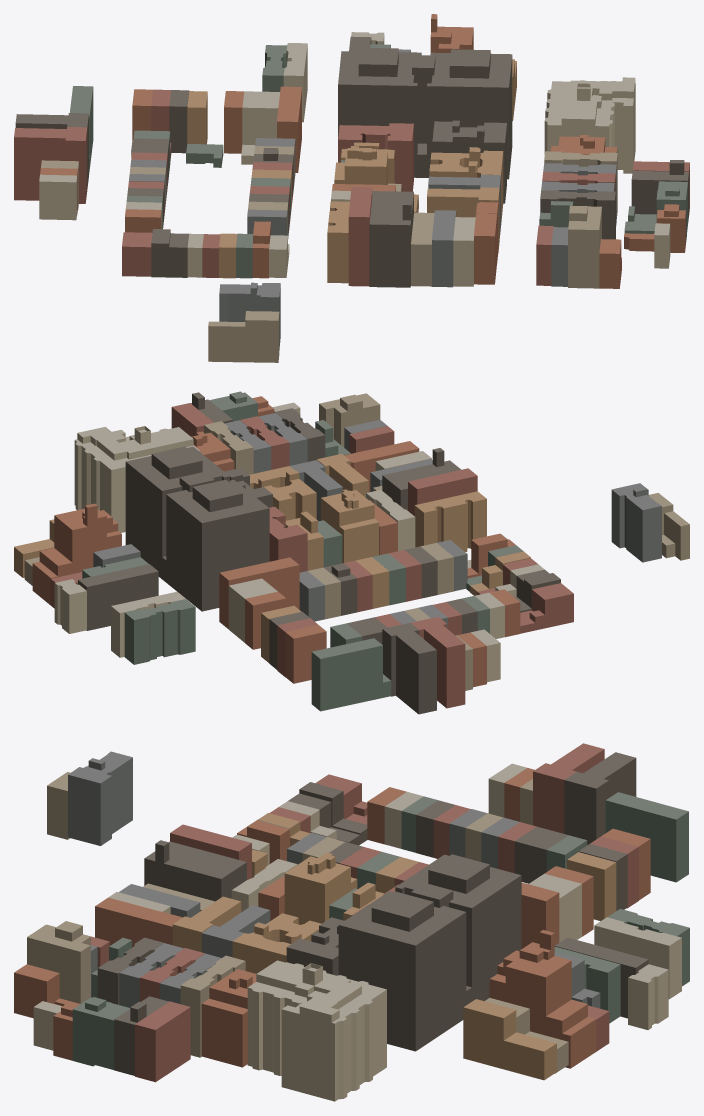
Rendered from tile--2_1.glb.
3 renders of one model, top to bottom at view 1: azimuth 30°, elevation 25°; view 2: azimuth 150°, elevation 25°; view 3: azimuth 270°, elevation 25°, orthographic. The views are drawn at different scales.
Visible parts, largest first — view 1: wall, roof; view 2: wall, roof; view 3: wall, roof.
Boxes of the visible parts, x1,y1,x2,y2 form: wall: [14, 17, 689, 362]; roof: [14, 14, 689, 326]; wall: [14, 394, 689, 714]; roof: [14, 391, 689, 682]; wall: [14, 749, 689, 1101]; roof: [14, 743, 689, 1051].
Bounding box in the file's own units: 225 × 43.34 × 214.
